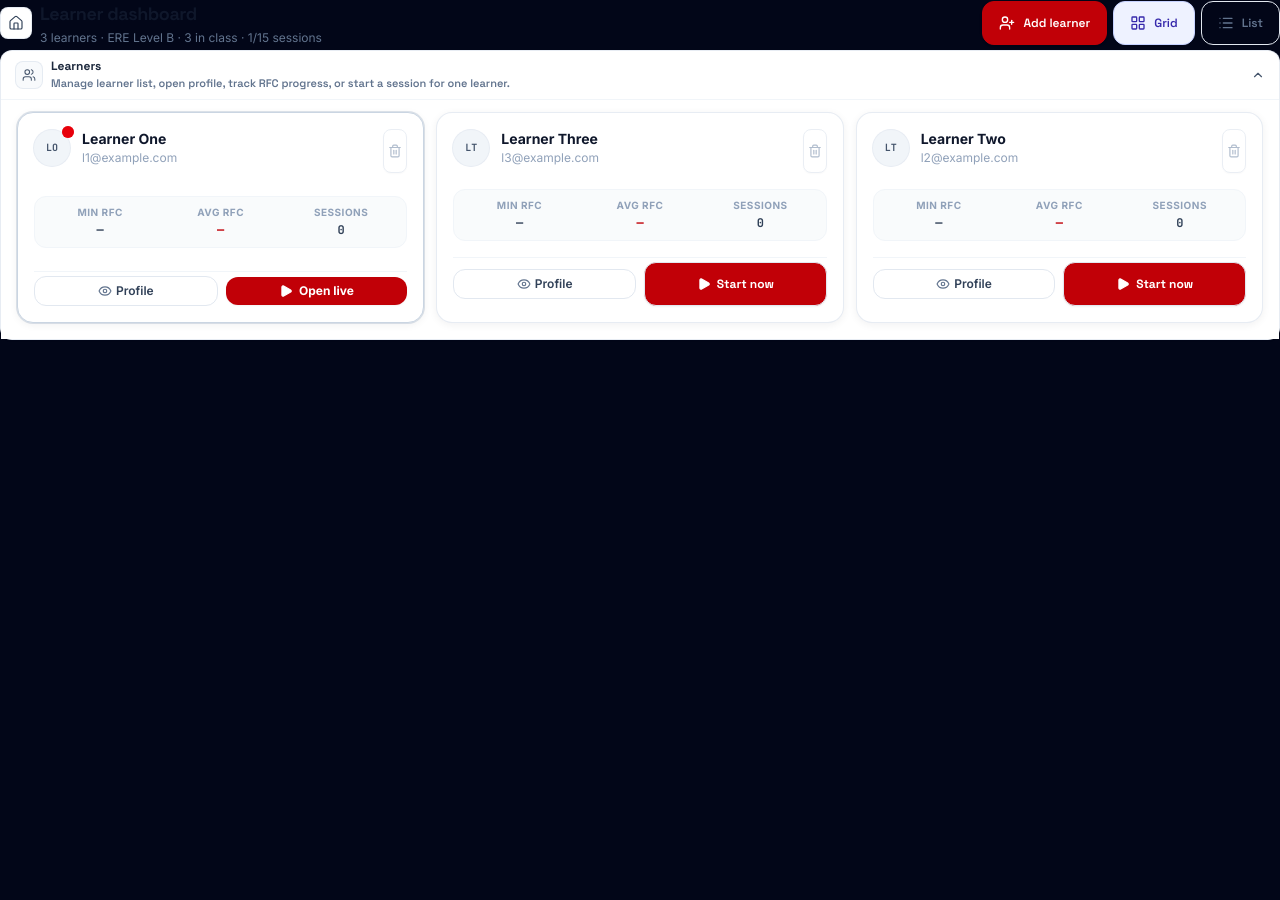
Scenario: TeacherOverviewPage - Add Learner › opens rollover prompt when starting session for a learner while another learner has an open session
Click the 1st button "Start now": (735, 284) [644,262,827,306]
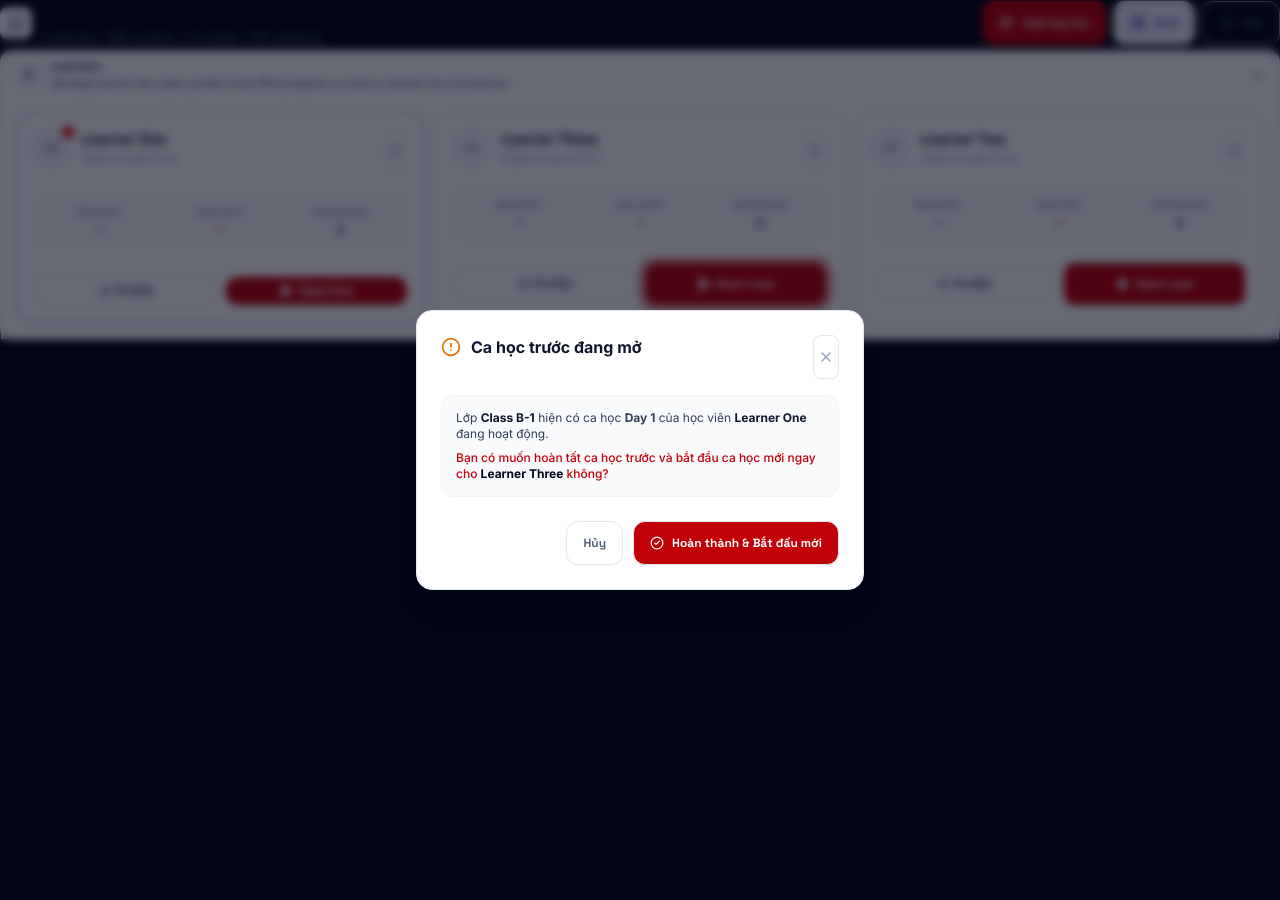
Expected: the heading "Ca học trước đang mở" is shown, [471,335,642,359]
Expected: the button "Hoàn thành & Bắt đầu mới" is shown, [633,521,839,565]
